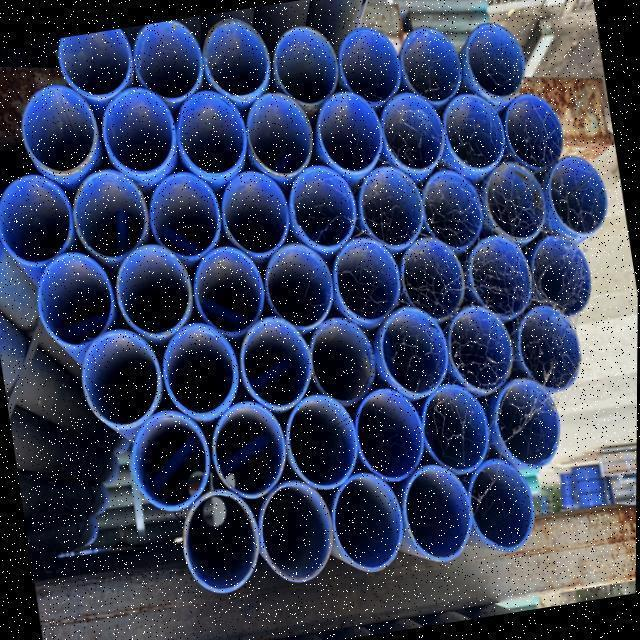pipe: (248, 479, 334, 581), (124, 409, 210, 511), (23, 249, 113, 345), (177, 485, 259, 590), (78, 327, 162, 428), (331, 470, 405, 571), (455, 455, 534, 548), (116, 244, 195, 337), (286, 392, 360, 491), (350, 386, 426, 481), (160, 322, 237, 415), (376, 306, 454, 397), (404, 457, 473, 558), (213, 401, 284, 498), (70, 166, 146, 256), (146, 167, 223, 255), (240, 315, 313, 407), (0, 172, 71, 265), (96, 86, 169, 176), (192, 247, 266, 335), (20, 83, 93, 171), (283, 163, 357, 249), (309, 316, 380, 405), (263, 244, 335, 331), (493, 377, 561, 468), (398, 232, 466, 323), (446, 300, 515, 389), (422, 382, 491, 470), (221, 167, 289, 255), (171, 88, 242, 172), (514, 303, 581, 391), (331, 239, 402, 322), (311, 88, 379, 174), (240, 91, 309, 175), (270, 25, 341, 105), (200, 16, 270, 96), (377, 88, 443, 171), (358, 163, 424, 245), (131, 19, 201, 96), (469, 232, 532, 316), (438, 93, 504, 173), (418, 169, 482, 250), (543, 153, 603, 239), (480, 159, 542, 242), (337, 27, 401, 107), (398, 26, 464, 103), (530, 233, 591, 314), (501, 92, 561, 173), (460, 19, 521, 96), (58, 28, 128, 94)
